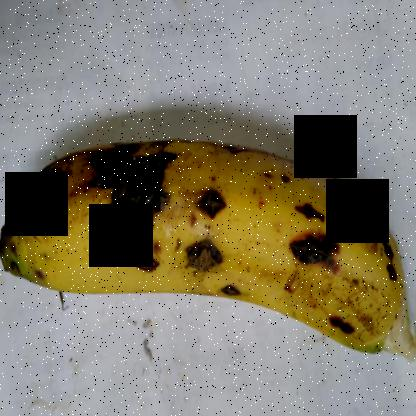rotten: (80, 125, 180, 238), (281, 223, 351, 283), (183, 227, 240, 288), (358, 214, 401, 288), (194, 170, 236, 232), (324, 308, 371, 357), (121, 239, 170, 282), (326, 180, 365, 223), (294, 192, 333, 230), (218, 278, 254, 316)
